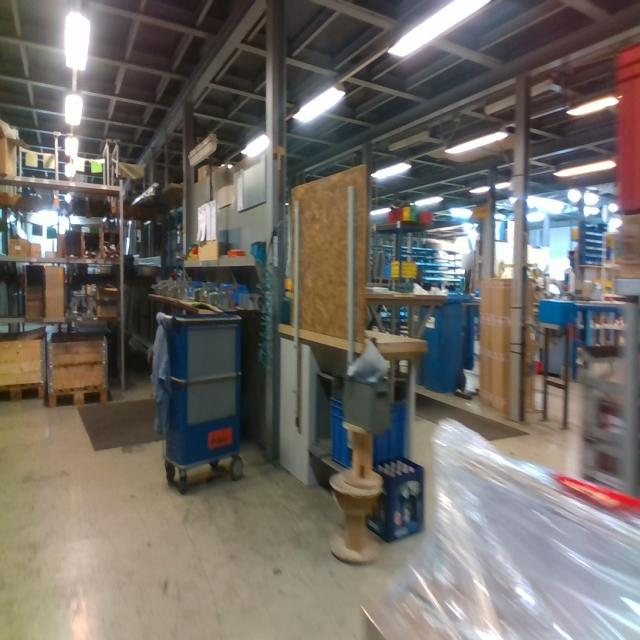pallet: (48, 382, 109, 410), (1, 378, 45, 406)
